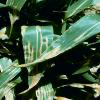Corn leaf blight: (16, 15, 99, 68), (20, 23, 54, 99)
